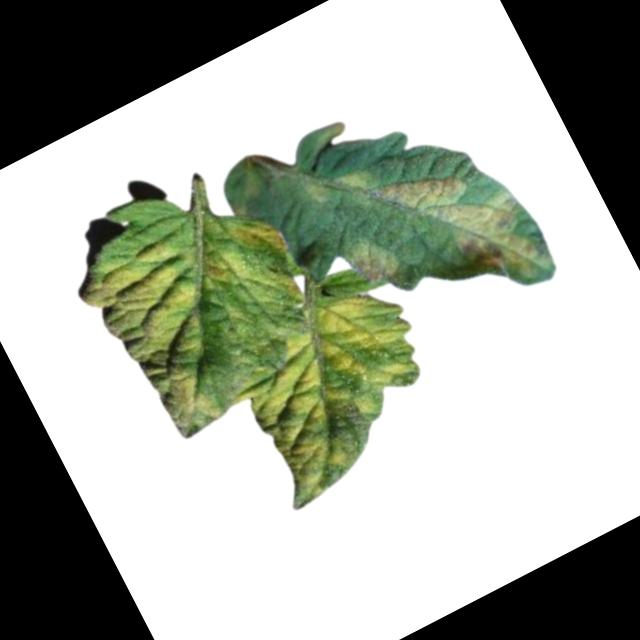Leaf_Mold: (219, 271, 464, 507), (71, 230, 256, 449), (367, 129, 556, 326), (188, 199, 314, 336), (297, 148, 375, 217), (336, 226, 401, 296)
